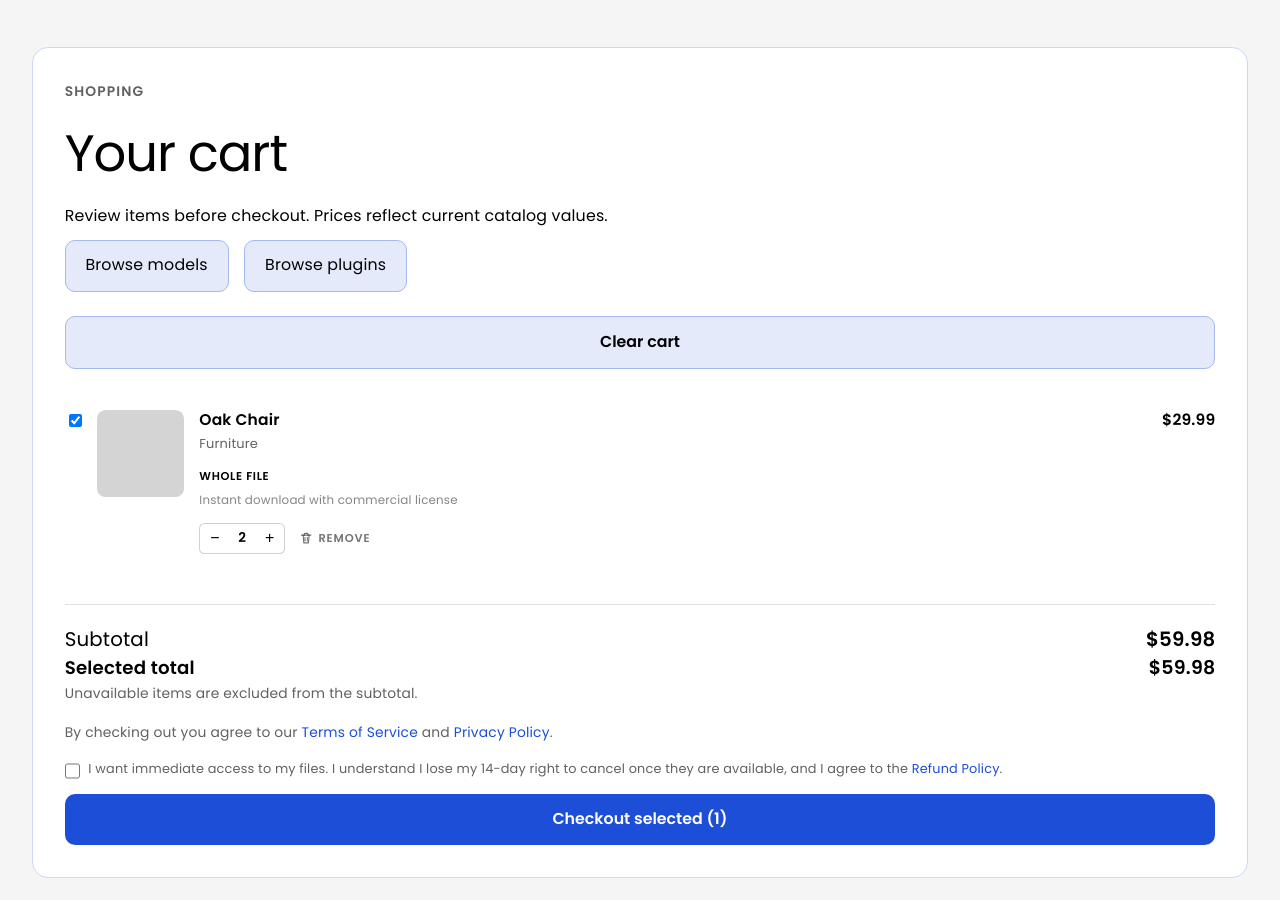
Test: CartPage › does not start checkout until the immediate-access box is ticked
The width and height of the screenshot is (1280, 900).
Check: the link "Oak Chair" is shown, box [199, 410, 280, 430]
Check: the checkbox labelled "immediate access" is not checked, box [65, 763, 80, 779]
Click the button "Checkout selected (1)" at (640, 820), box [65, 794, 1215, 845]
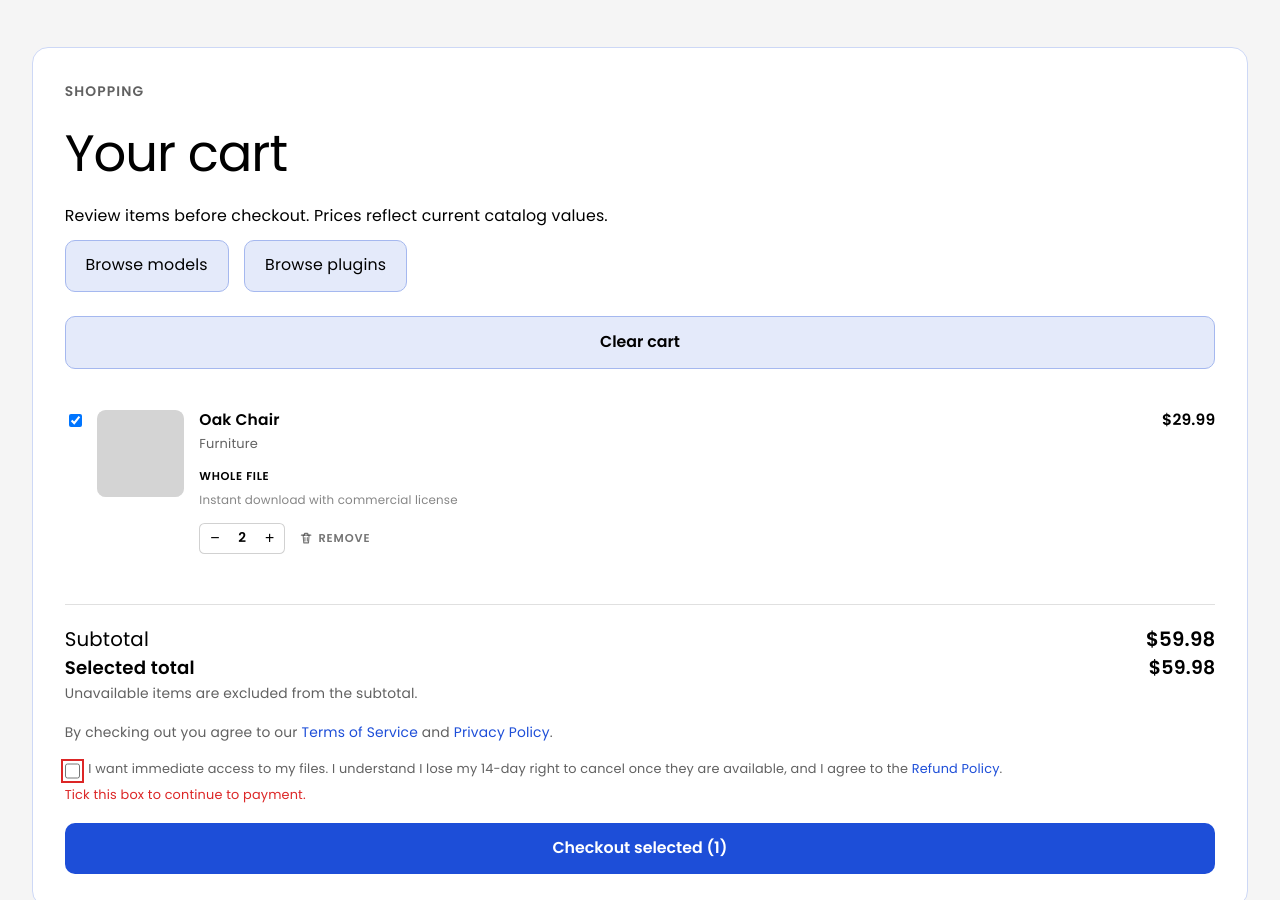
Check: the message shows "Tick this box", box [65, 786, 306, 804]
Click the checkbox labelled "immediate access" at (72, 771), box [65, 763, 80, 779]
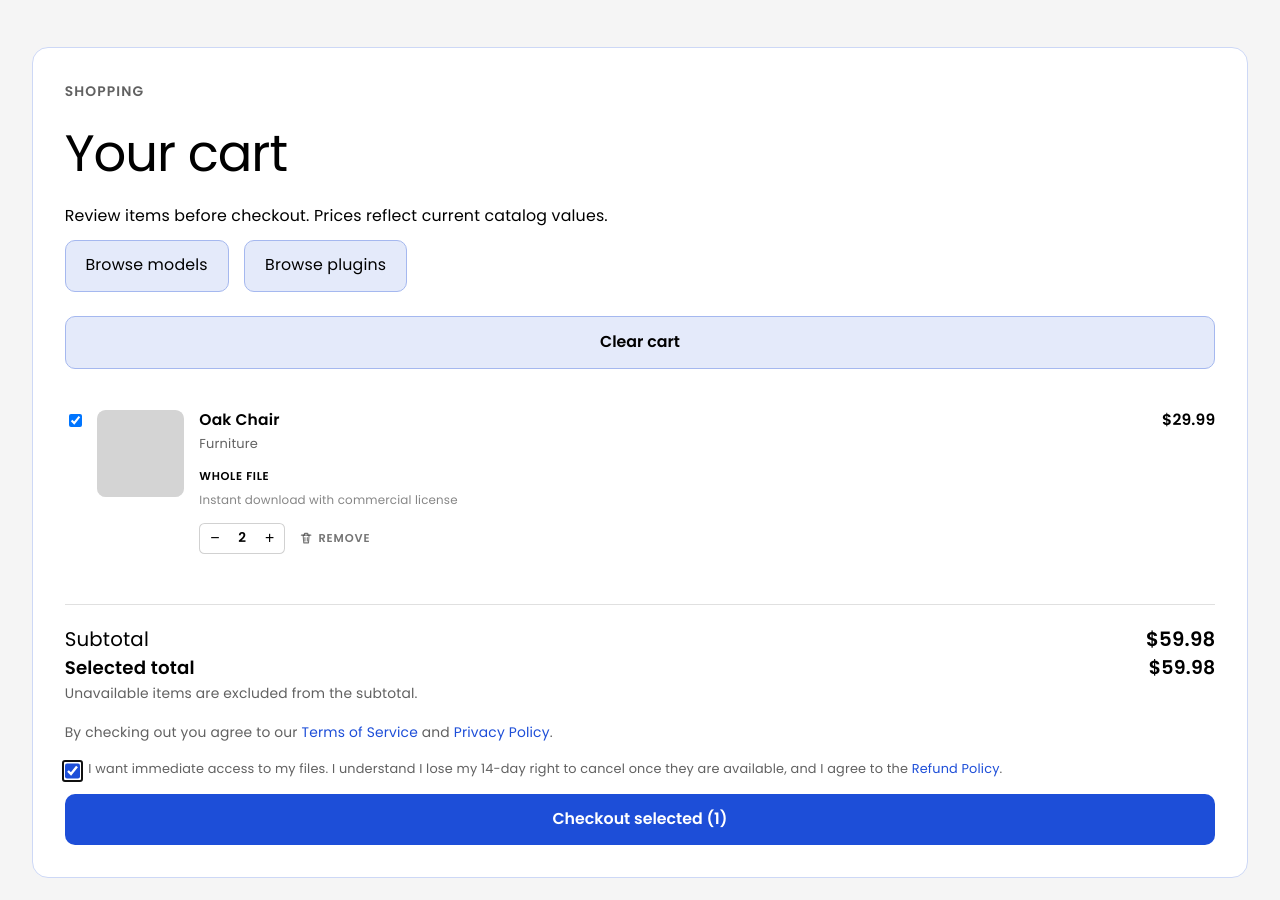
Check: the message "Tick this box to continue to payment." is gone
